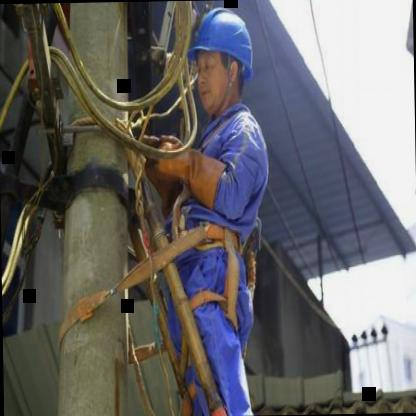helmet: (181, 0, 259, 119)
